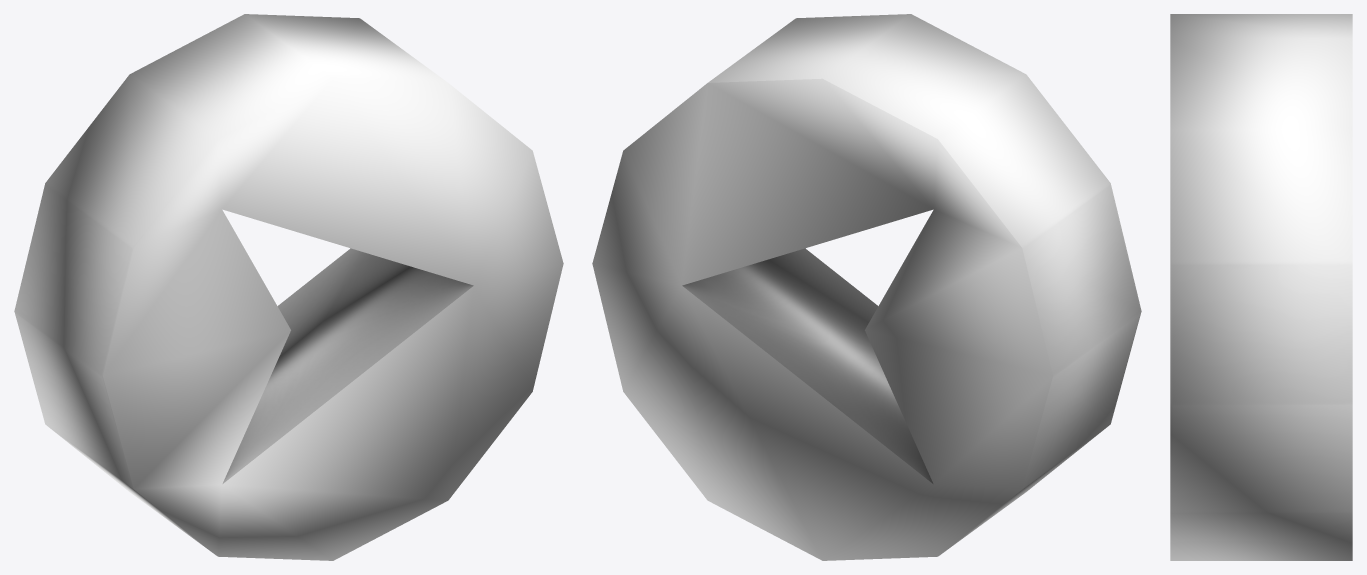
The model's file is Arrow09.fbx.
The picture shows the model from 3 angles, left to right: view 1: azimuth 30°, elevation 25°; view 2: azimuth 150°, elevation 25°; view 3: azimuth 270°, elevation 25°; orthographic projection. The views are drawn at different scales.
Visible parts, largest first — view 1: Arrow09; view 2: Arrow09; view 3: Arrow09.
Part boxes in pixels (box(x1,y1,x2,y2)): Arrow09: box(14, 14, 563, 560); Arrow09: box(592, 14, 1141, 560); Arrow09: box(1170, 14, 1352, 560).
Bounding box in the file's own units: 5 × 5 × 1.66.
